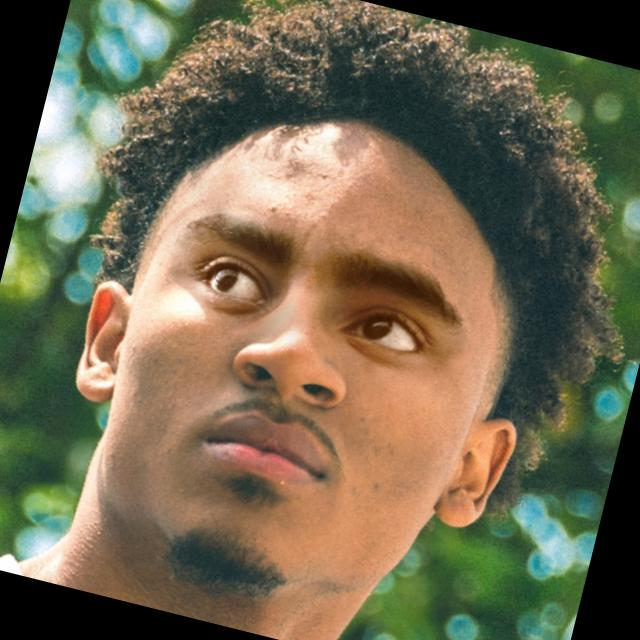face: (49, 94, 580, 640)
